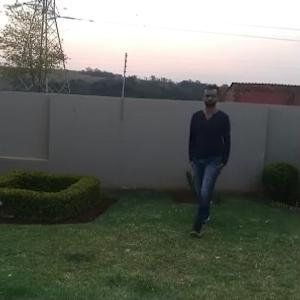follow: (186, 84, 233, 229)
